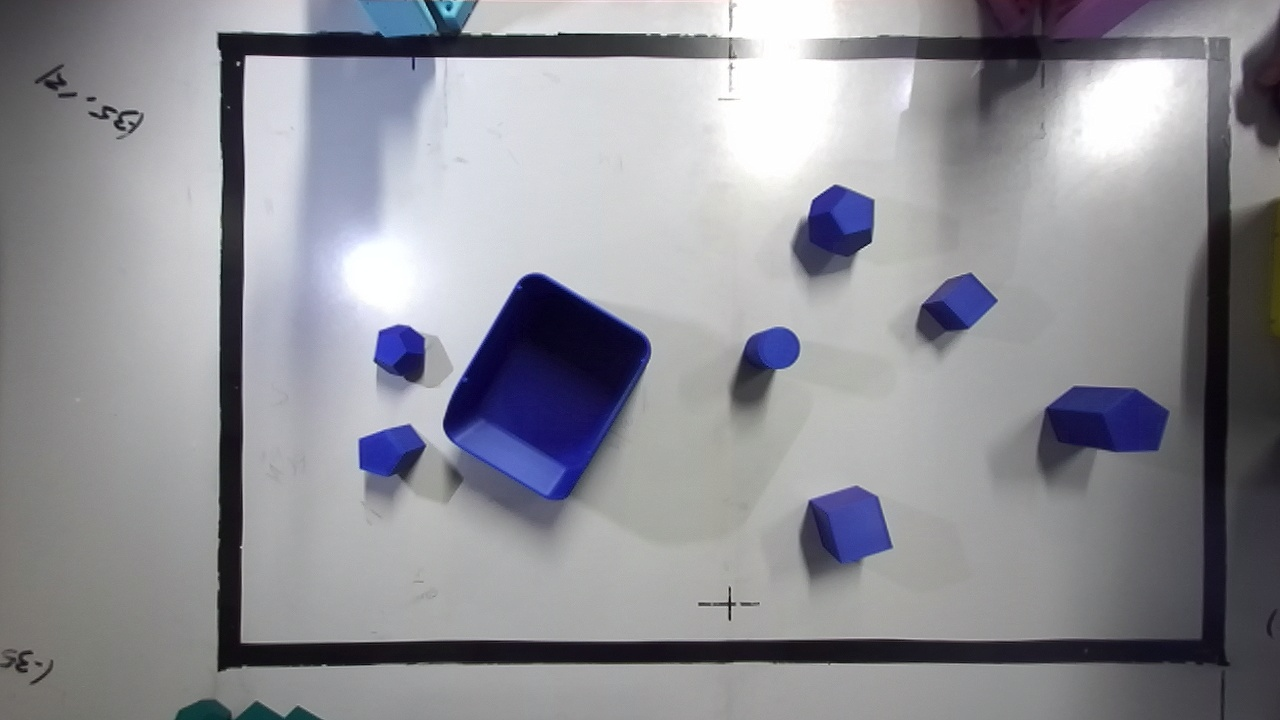bin: (443, 273, 650, 499)
cube: (808, 486, 892, 563), (921, 273, 996, 330)
cylinder: (742, 326, 799, 369)
dodecahedron: (808, 185, 873, 255), (374, 325, 424, 382)
hexagonal: (1045, 386, 1169, 451), (358, 424, 425, 476)
